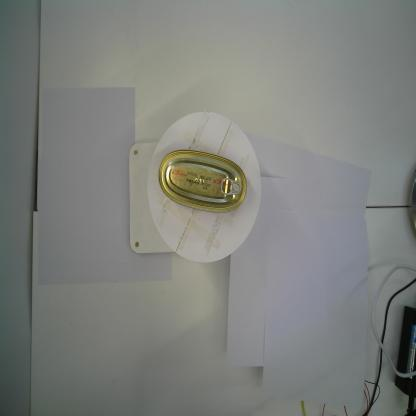Canned Food: (157, 148, 248, 214)
